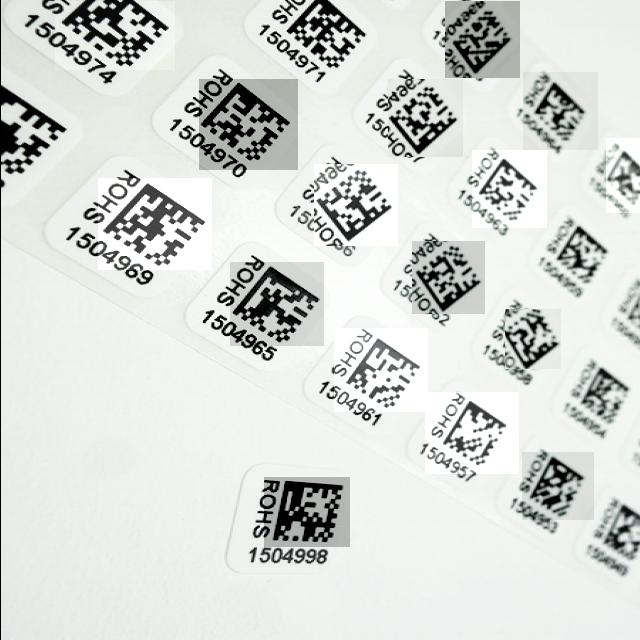DataMatrix: (96, 178, 210, 270), (198, 79, 297, 170), (54, 1, 174, 70), (332, 328, 427, 412), (229, 262, 323, 346), (424, 392, 518, 474), (313, 164, 397, 246), (263, 477, 349, 547), (387, 79, 462, 157), (471, 150, 546, 228), (522, 72, 597, 150), (444, 1, 519, 78), (411, 241, 484, 314), (521, 452, 593, 520), (576, 364, 633, 423), (504, 309, 560, 369), (604, 138, 638, 213)
